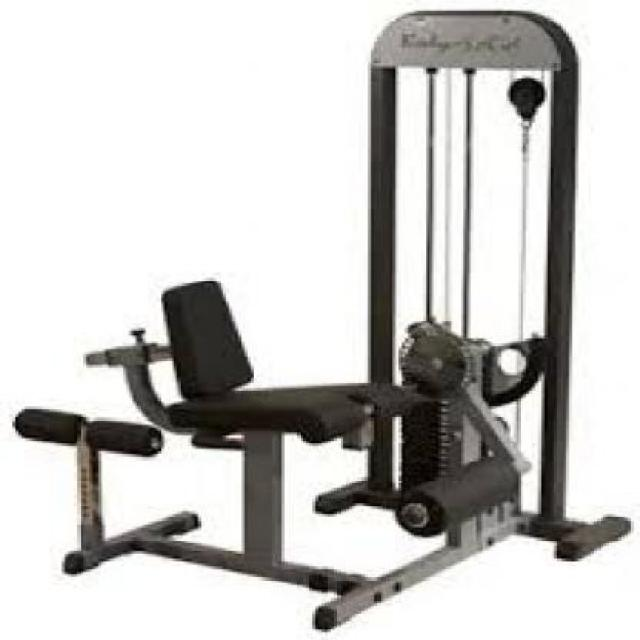leg extension: (9, 1, 640, 640)
